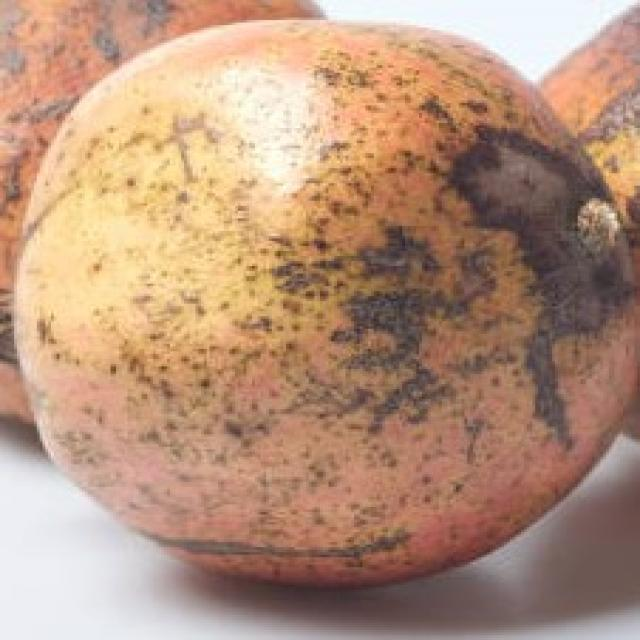overripe: (8, 13, 640, 595)
